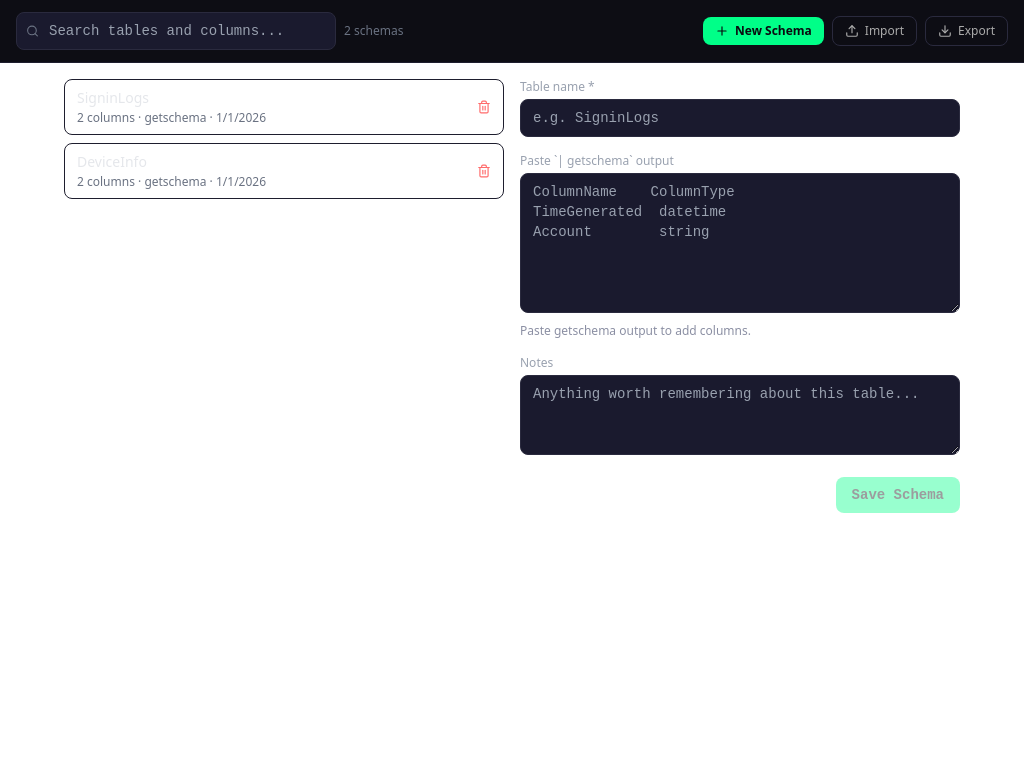
Scenario: deleting › closes without deleting on Cancel
Expected: the text "SigninLogs" is shown, [77, 88, 149, 107]
What coordinates should you click on to do the following:
click the button named "Delete schema SigninLogs"
I would click on:
 (484, 107)
Its box is [469, 92, 499, 122].
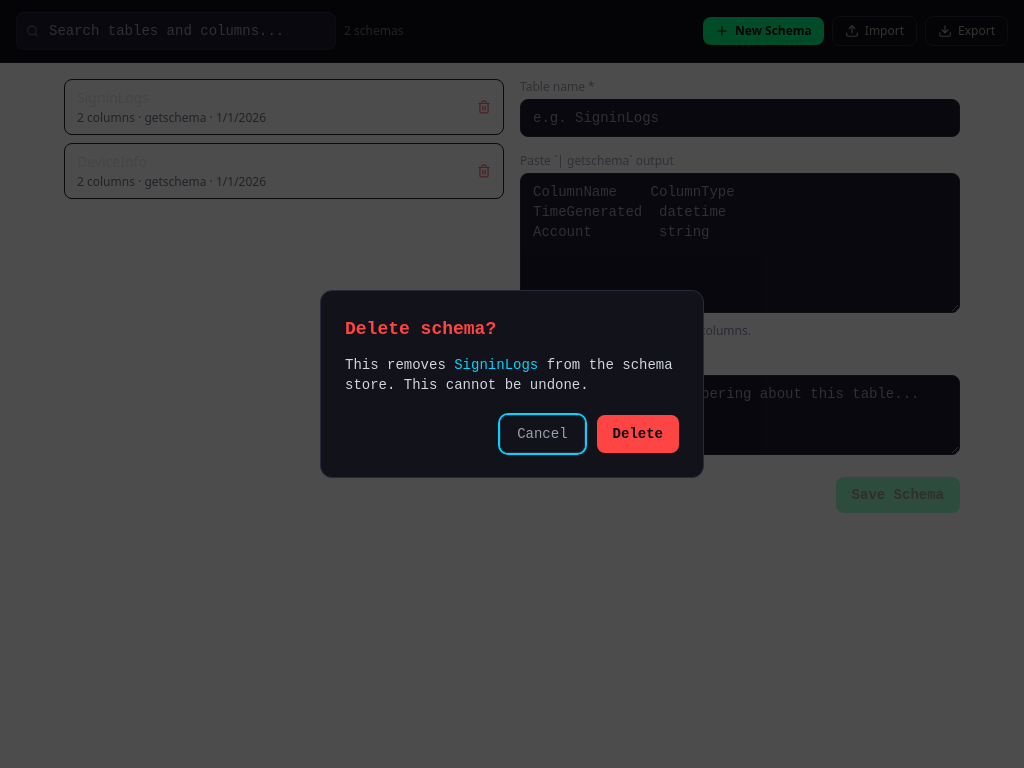
What coordinates should you click on to do the following:
click the button "Cancel"
I would click on:
 (542, 434)
Its box is [500, 415, 585, 453].
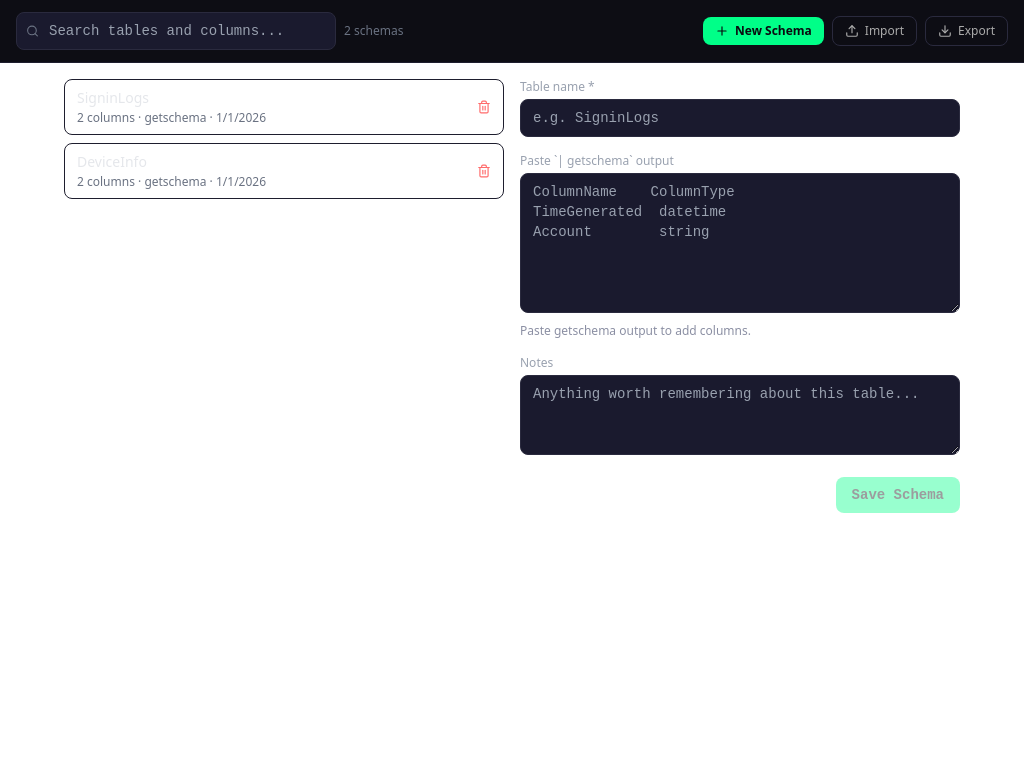
Expected: the text "SigninLogs" is shown, [77, 88, 149, 107]
Result: the dialog is gone
